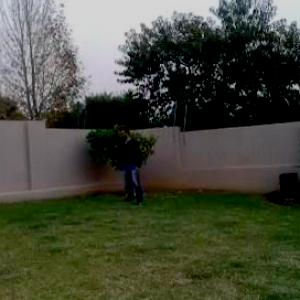follow: (119, 121, 146, 209)
